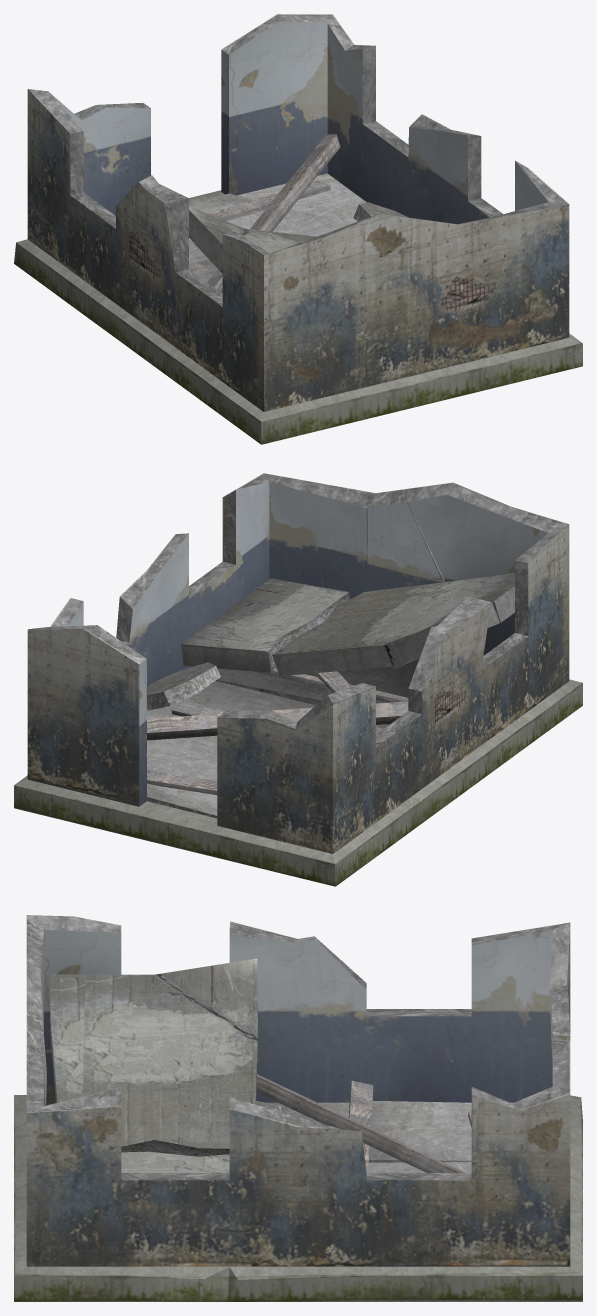
Rendered from destruido 6.fbx.
3 renders of one model, top to bottom at view 1: azimuth 30°, elevation 25°; view 2: azimuth 150°, elevation 25°; view 3: azimuth 270°, elevation 25°, orthographic. The views are drawn at different scales.
Visible parts, largest first — view 1: house; view 2: house; view 3: house.
Boxes of the visible parts, bbox=[...] form: house: bbox=[14, 14, 582, 444]; house: bbox=[14, 473, 582, 886]; house: bbox=[14, 915, 582, 1301].
Size of the model in its own units: 620 by 360 by 820.
1 material, 1 textured.
